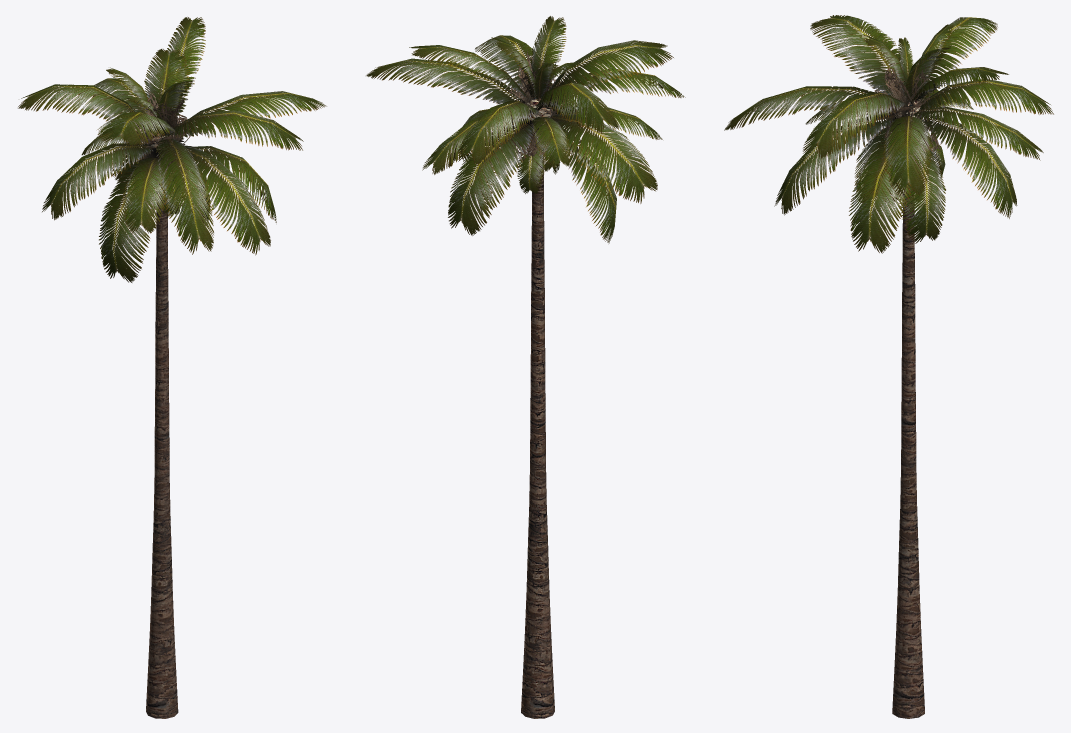
The model's file is palm_tree.obj.
3 renders of one model, left to right at view 1: azimuth 30°, elevation 25°; view 2: azimuth 150°, elevation 25°; view 3: azimuth 270°, elevation 25°, orthographic. The views are drawn at different scales.
Visible parts, largest first — view 1: palm_tree; view 2: palm_tree; view 3: palm_tree.
Part boxes in pixels (x1,y1,x2,y2): palm_tree: (18,17,326,718); palm_tree: (366,16,685,718); palm_tree: (724,15,1053,718).
Bounding box in the file's own units: 198 × 440 × 198.
Materials: 1 (1 with a texture image).
